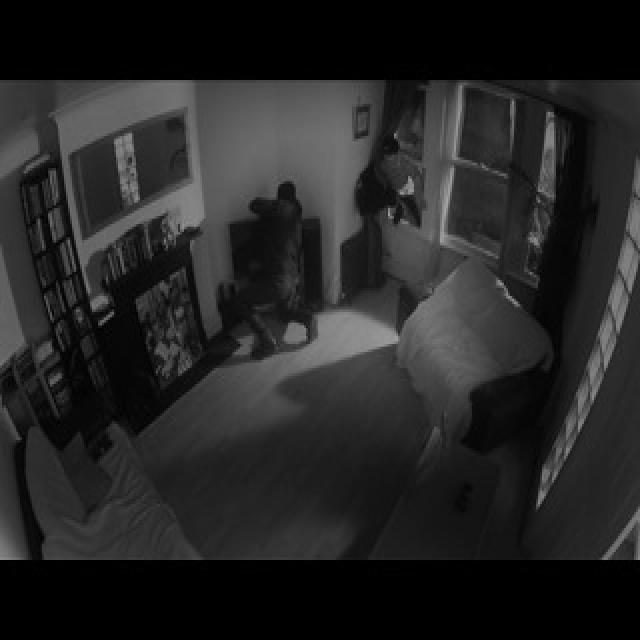thief: (241, 181, 301, 350)
